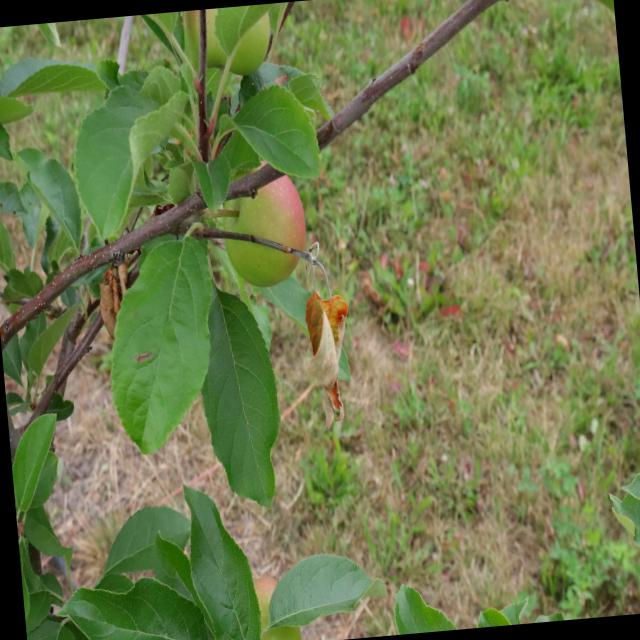-FireBlight-: (306, 245, 354, 414), (84, 265, 134, 320)
